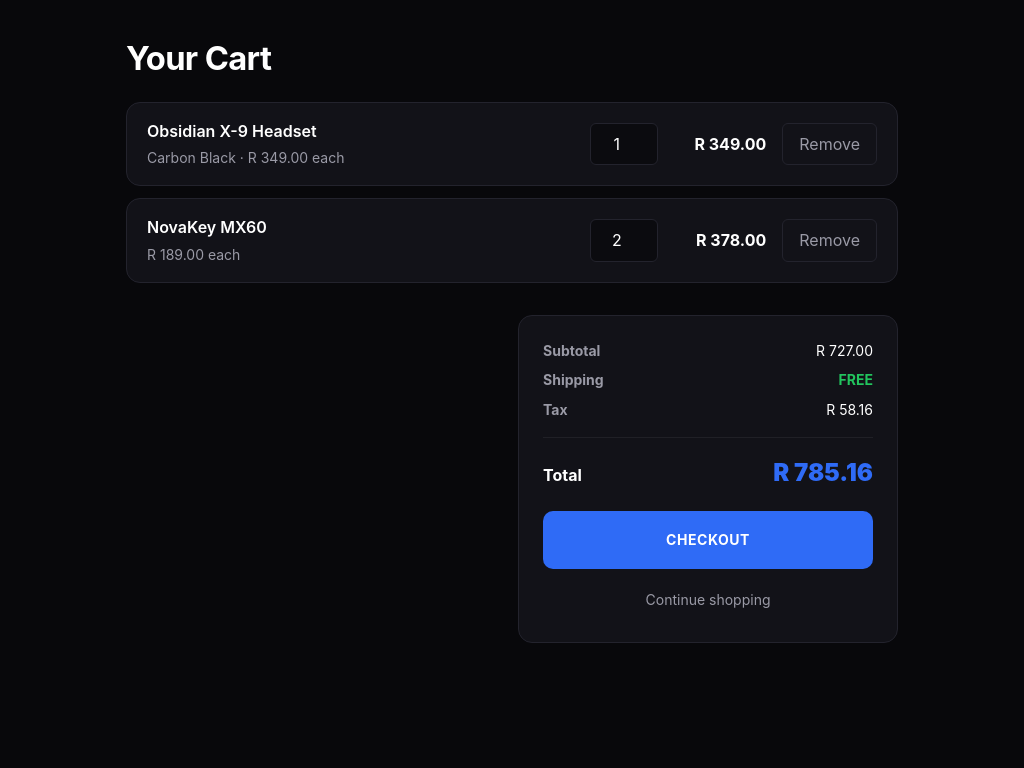
Scenario: changing a quantity › a refusal from the server is shown, not swallowed
Replace the text in the number field in the row of "Obsidian X-9 Headset" with "9": (624, 144) [590,122,658,165]
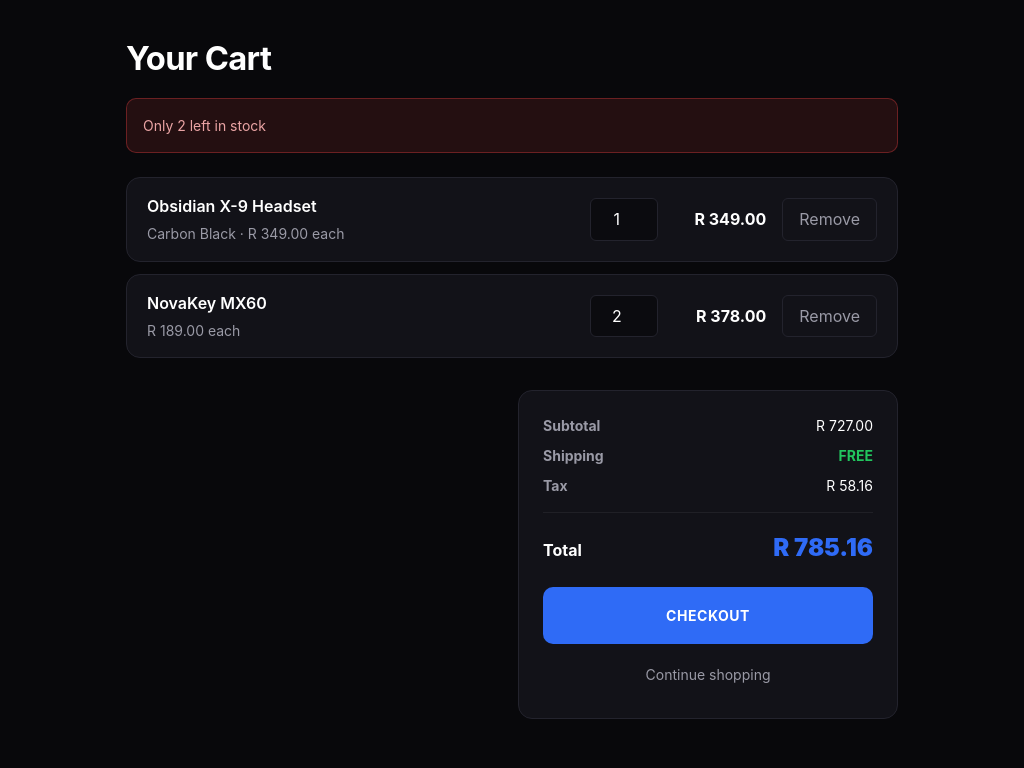
Now the message reads "Only 2 left in stock", box [143,117,266,134]
